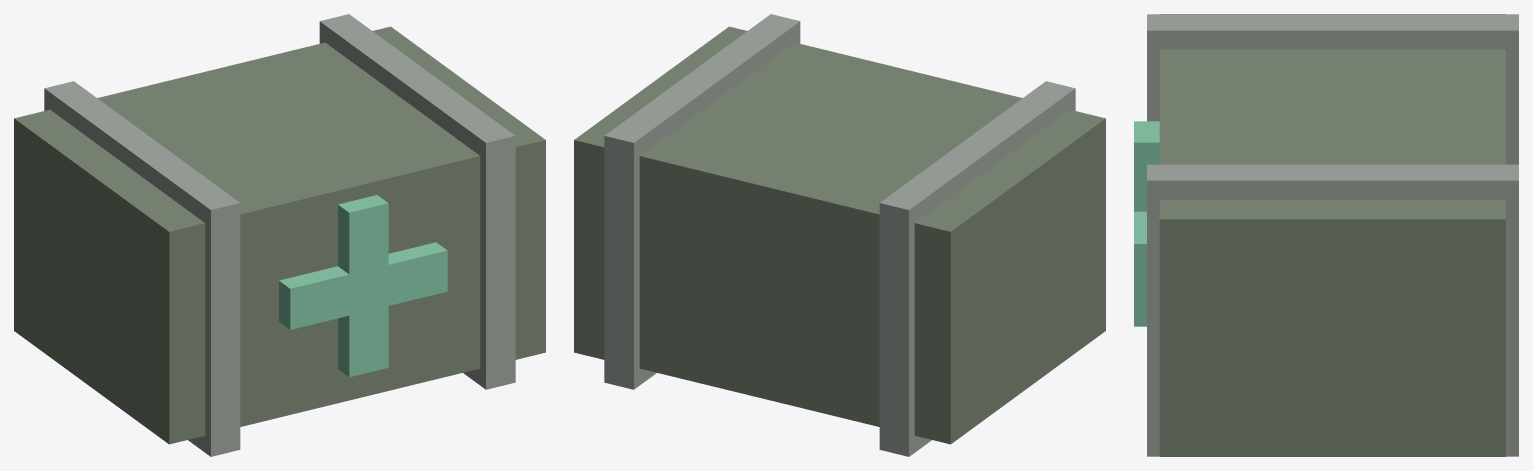
The model's file is repair_crate_m155.glb.
The picture shows the model from 3 angles, left to right: view 1: azimuth 30°, elevation 25°; view 2: azimuth 150°, elevation 25°; view 3: azimuth 270°, elevation 25°; orthographic projection. The views are drawn at different scales.
Parts seen in each view (by area): view 1: RepairCrate, Band_0, Band_1, CrossH, CrossV; view 2: RepairCrate, Band_0, Band_1; view 3: RepairCrate, Band_1, Band_0, CrossV, CrossH.
Boxes of the visible parts, x1,y1,x2,y2 form: RepairCrate: (14, 26, 545, 444); Band_0: (44, 81, 240, 456); Band_1: (319, 14, 515, 389); CrossH: (279, 242, 447, 329); CrossV: (338, 195, 388, 377); RepairCrate: (574, 26, 1105, 444); Band_0: (879, 81, 1075, 456); Band_1: (604, 14, 800, 389); RepairCrate: (1159, 14, 1505, 456); Band_1: (1147, 164, 1518, 456); Band_0: (1147, 14, 1518, 164); CrossV: (1134, 121, 1159, 326); CrossH: (1134, 211, 1146, 289).
Bounding box in the file's own units: 1.15 × 0.72 × 0.91.
